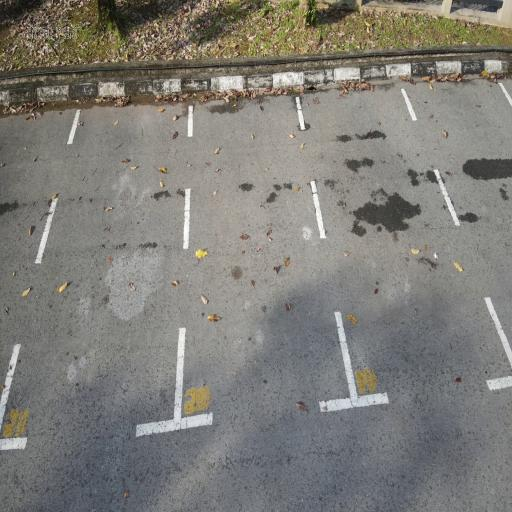Empty: (172, 83, 362, 436)
